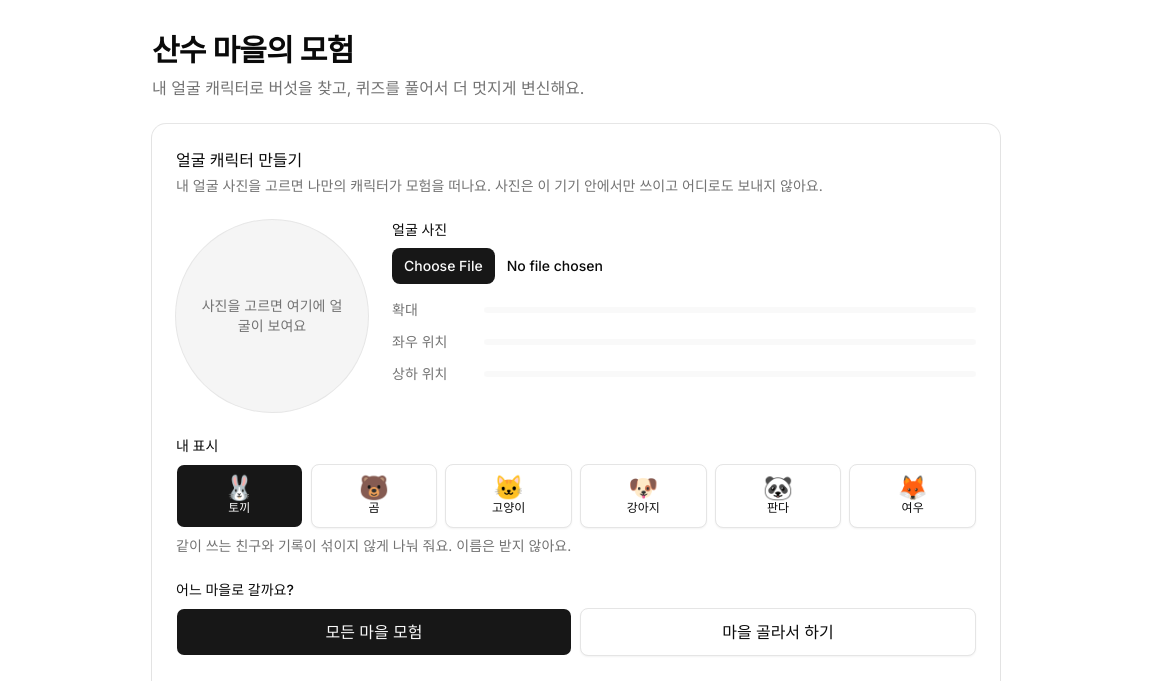
Test case: 동물 표시 여섯 개 중 첫 번째가 선택되어 있고 다른 표시를 고를 수 있다
The width and height of the screenshot is (1152, 681).
Expected: the radio button labelled "토끼" is checked, [176,464,303,528]
Click the radio button labelled "곰" at (374, 496), box [311,464,437,528]
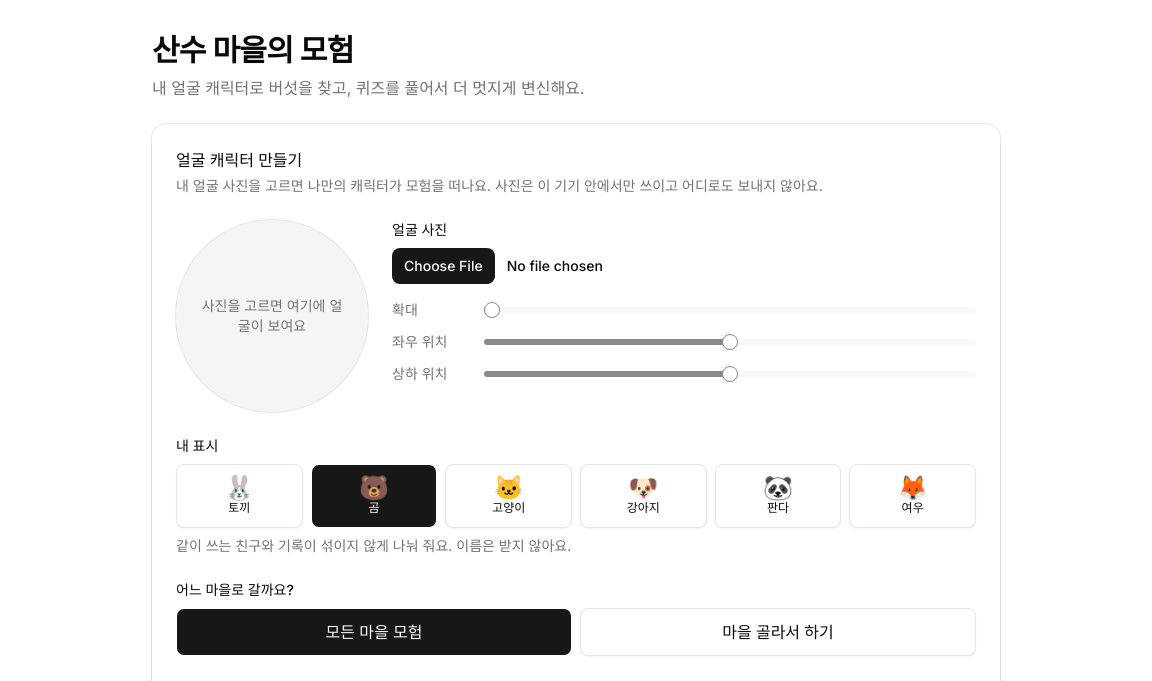
Result: the radio button labelled "곰" is checked at [311,464,437,528]
Result: the radio button labelled "토끼" is not checked at [176,464,303,528]
